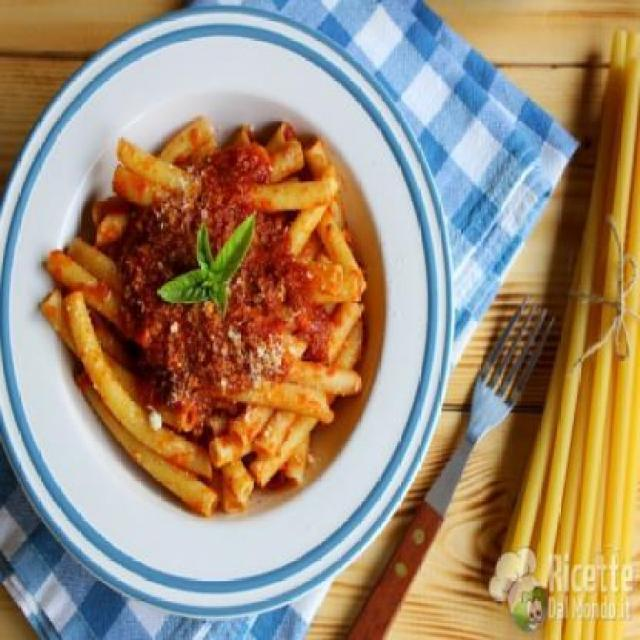Pasta al ragu: (51, 100, 392, 509)
